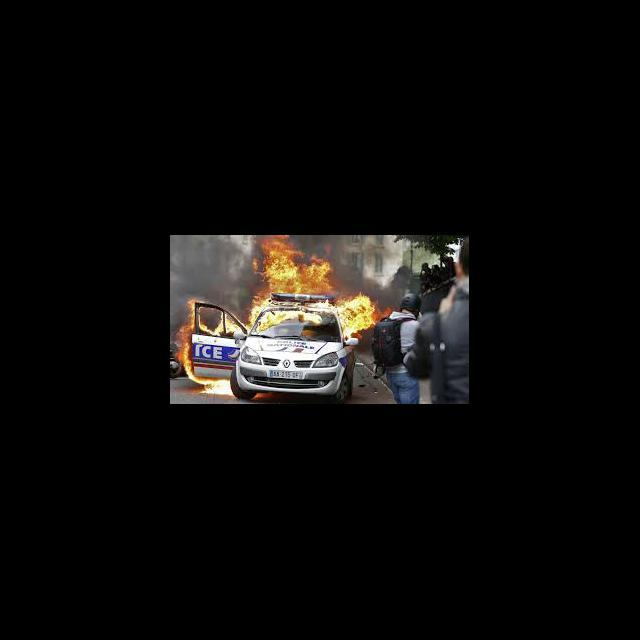Fire: (255, 238, 338, 296), (248, 296, 326, 329), (336, 292, 376, 338), (199, 304, 242, 338), (181, 342, 204, 386), (178, 296, 198, 342), (202, 378, 235, 397)
Smoke: (170, 236, 246, 300)
